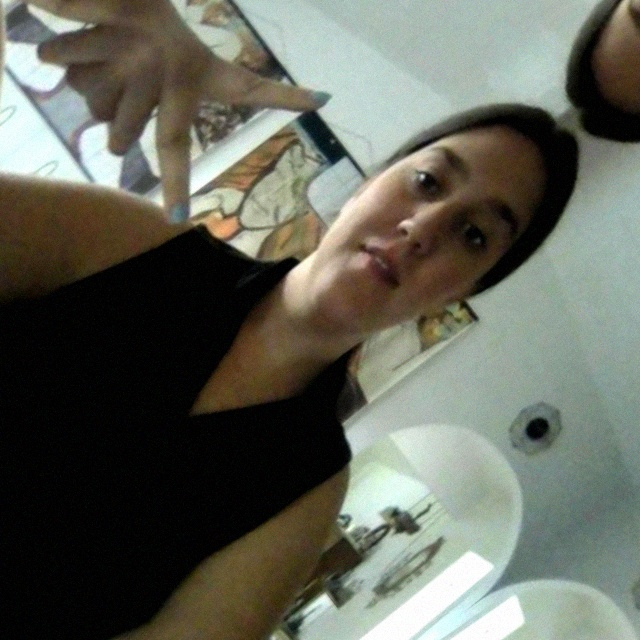Scissors: (50, 0, 354, 259)
